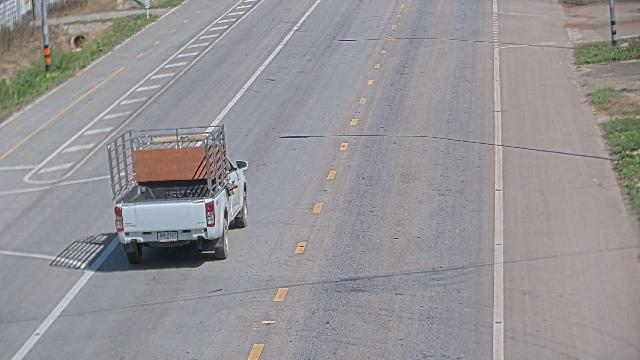pickup-truck: (105, 123, 249, 264)
